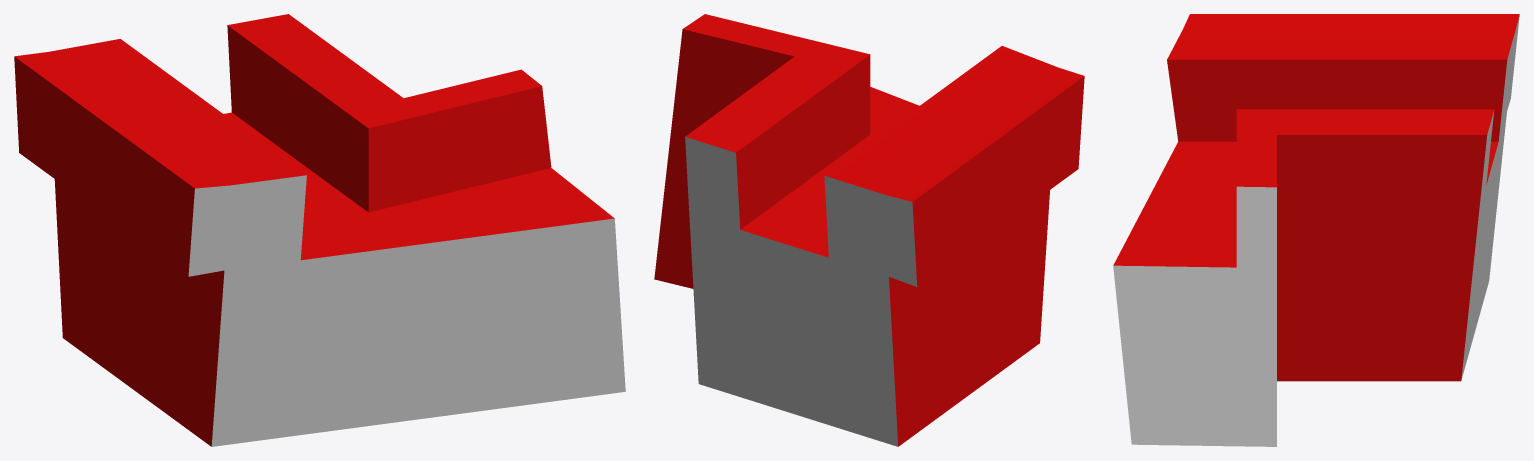
File: mdl_ciudadela_pared_fracturepart8.fbx
3 renders of one model, left to right at view 1: azimuth 30°, elevation 25°; view 2: azimuth 150°, elevation 25°; view 3: azimuth 270°, elevation 25°, orthographic. The views are drawn at different scales.
Parts seen in each view (by area): view 1: mdl_ciudadela_pared_fracturepart8; view 2: mdl_ciudadela_pared_fracturepart8; view 3: mdl_ciudadela_pared_fracturepart8.
Part boxes in pixels (x1=…): mdl_ciudadela_pared_fracturepart8: x1=14, y1=14, x2=625, y2=446; mdl_ciudadela_pared_fracturepart8: x1=654, y1=14, x2=1084, y2=446; mdl_ciudadela_pared_fracturepart8: x1=1113, y1=14, x2=1519, y2=446.
Bounding box in the file's own units: 6.41 × 4.21 × 6.13.
